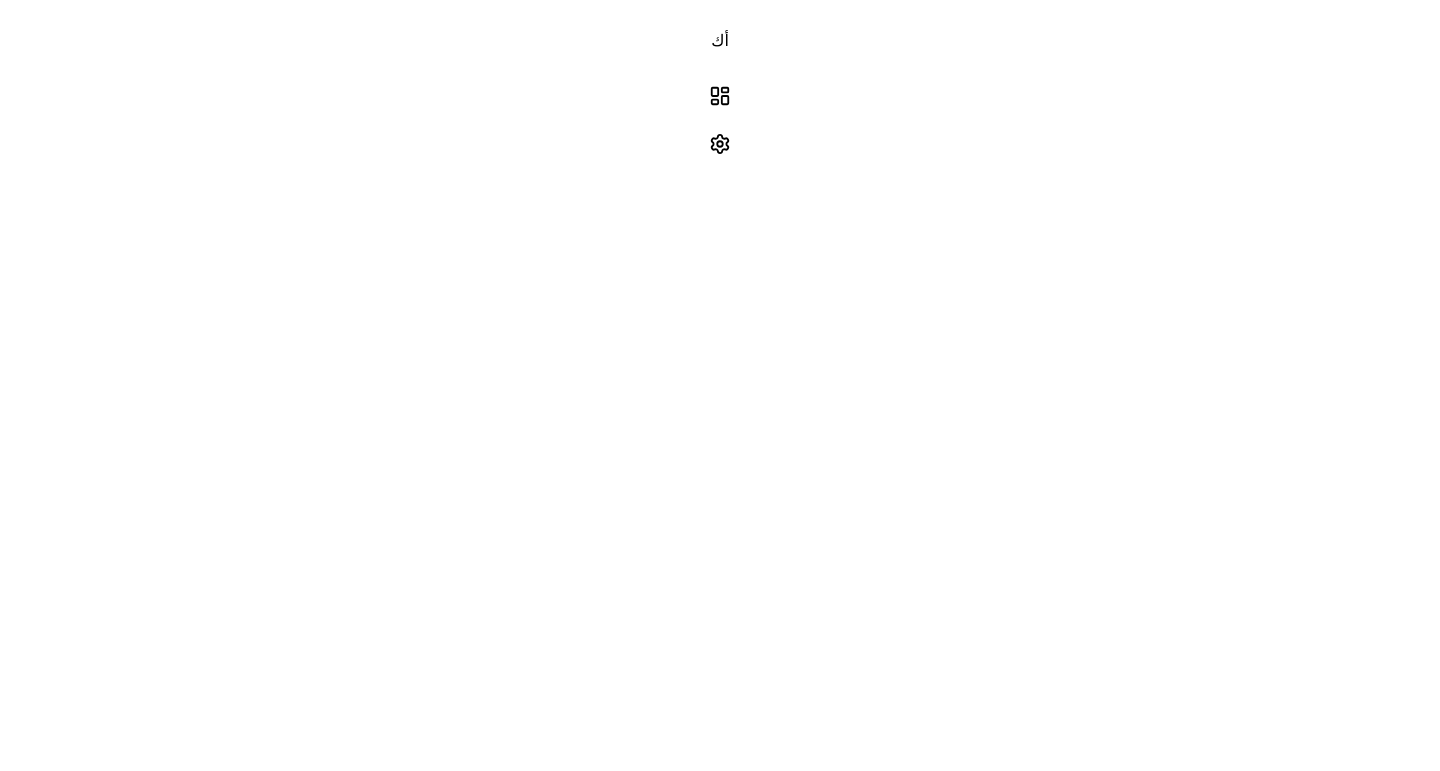
it: RailShell (ar) › fly-outs with the pointer › opens a fly-out on hover and closes it when the pointer leaves
The image size is (1440, 771).
Hover over the button named "التخطيط" at (720, 96), box [8,72,1432,120]
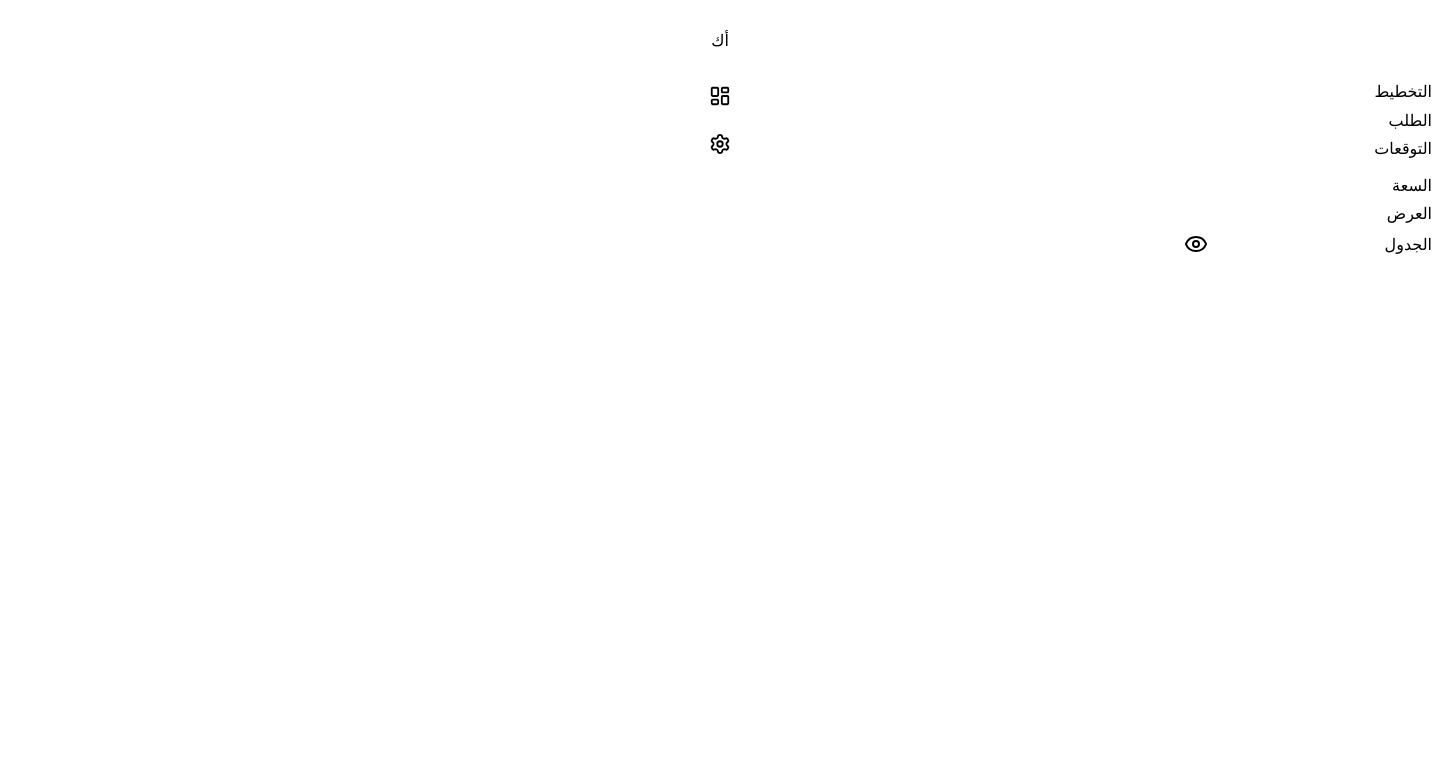
Check: the button named "التخطيط" is expanded
Move the pointer off the button named "التخطيط", box [8,72,1432,120]
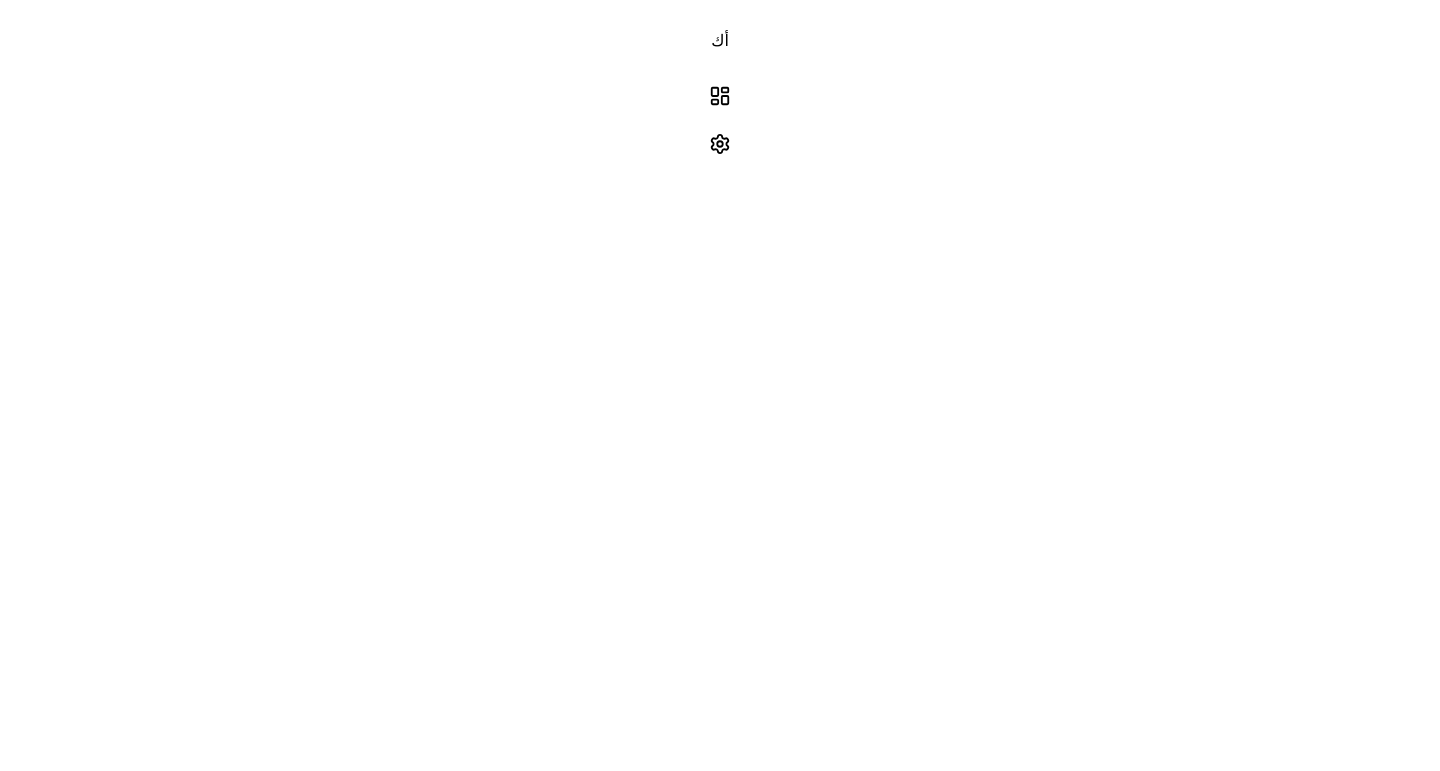
Check: the text "التخطيط" is gone
Check: the button named "التخطيط" is collapsed, box [8,72,1432,120]
